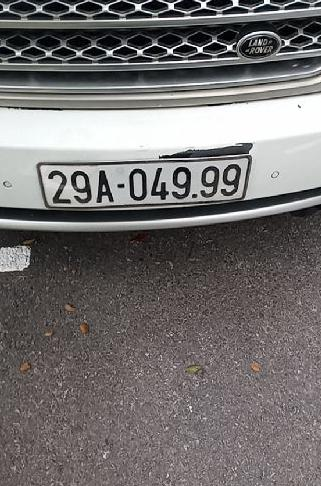Plate-iWeP: (37, 156, 254, 215)
